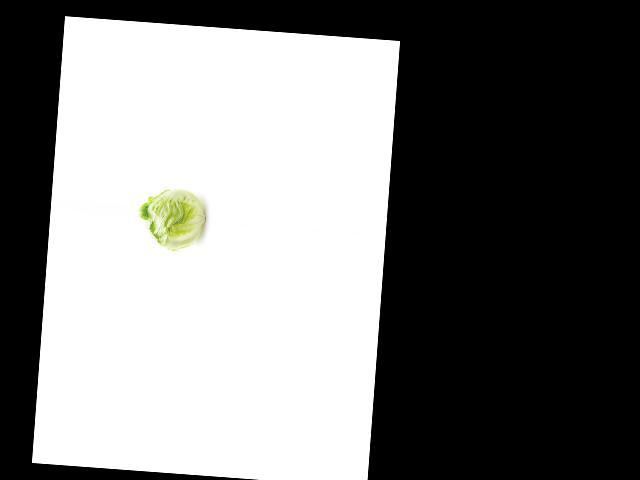lettuce: (135, 184, 210, 258)
